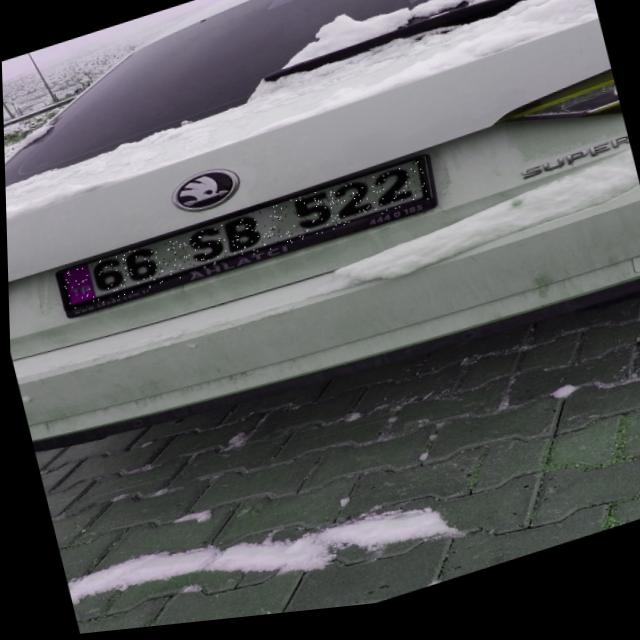license_plate: (56, 167, 431, 315)
